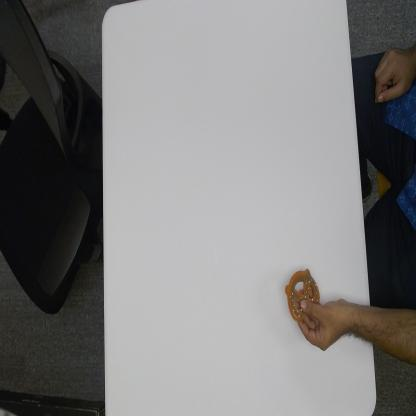Arm: (350, 299, 416, 365)
Hand: (297, 296, 350, 354)
Pretzel: (284, 266, 321, 322)
